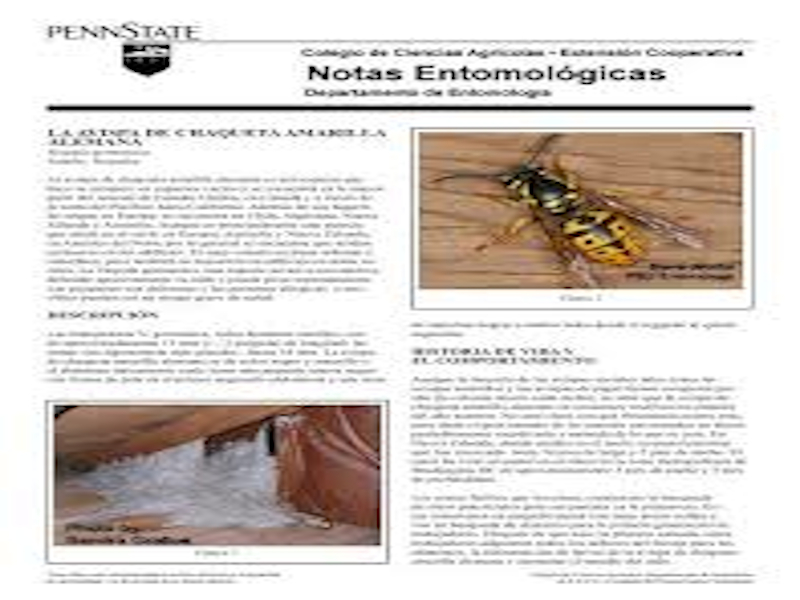chax: (418, 137, 718, 278)
